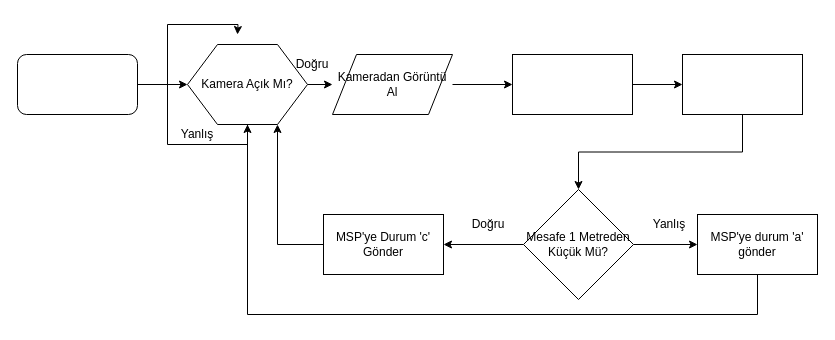
This 835x340 diagram has some shape labels left out. Each missing label, with the centre of its shape:
Aracın Mesafesini Hesapla: pixel 742 84
BAŞLA: pixel 77 84
Görüntüde Cascade İle Araç Ara: pixel 572 84
